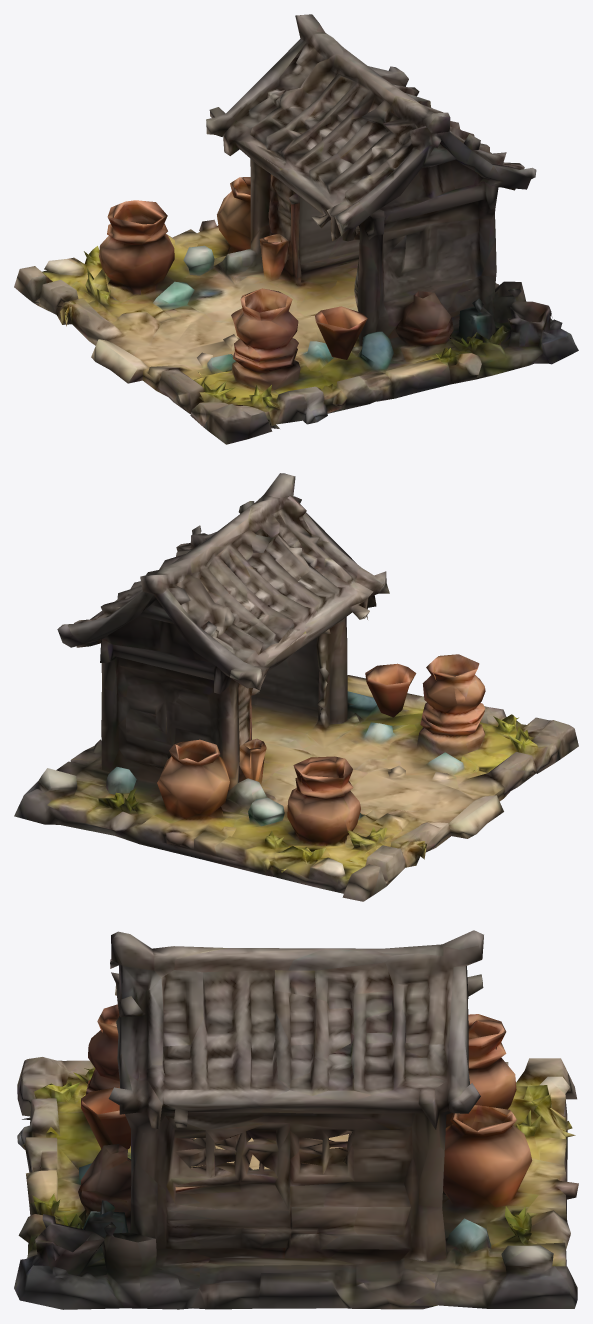
Rendered from anc_kiln.glb.
3 views of the same model, one above another, from view 1: azimuth 30°, elevation 25°; view 2: azimuth 150°, elevation 25°; view 3: azimuth 270°, elevation 25° (orthographic). The views are drawn at different scales.
Visible parts, largest first — view 1: tripo_node_54b50041-8051-4693-83b9-2a9f06a7eada; view 2: tripo_node_54b50041-8051-4693-83b9-2a9f06a7eada; view 3: tripo_node_54b50041-8051-4693-83b9-2a9f06a7eada.
Boxes of the visible parts, x1,y1,x2,y2 form: tripo_node_54b50041-8051-4693-83b9-2a9f06a7eada: (14,14,578,444); tripo_node_54b50041-8051-4693-83b9-2a9f06a7eada: (14,473,578,901); tripo_node_54b50041-8051-4693-83b9-2a9f06a7eada: (14,930,578,1309).
Bounding box in the file's own units: 0.9767 × 0.609 × 0.9977.
1 material, 1 textured.
